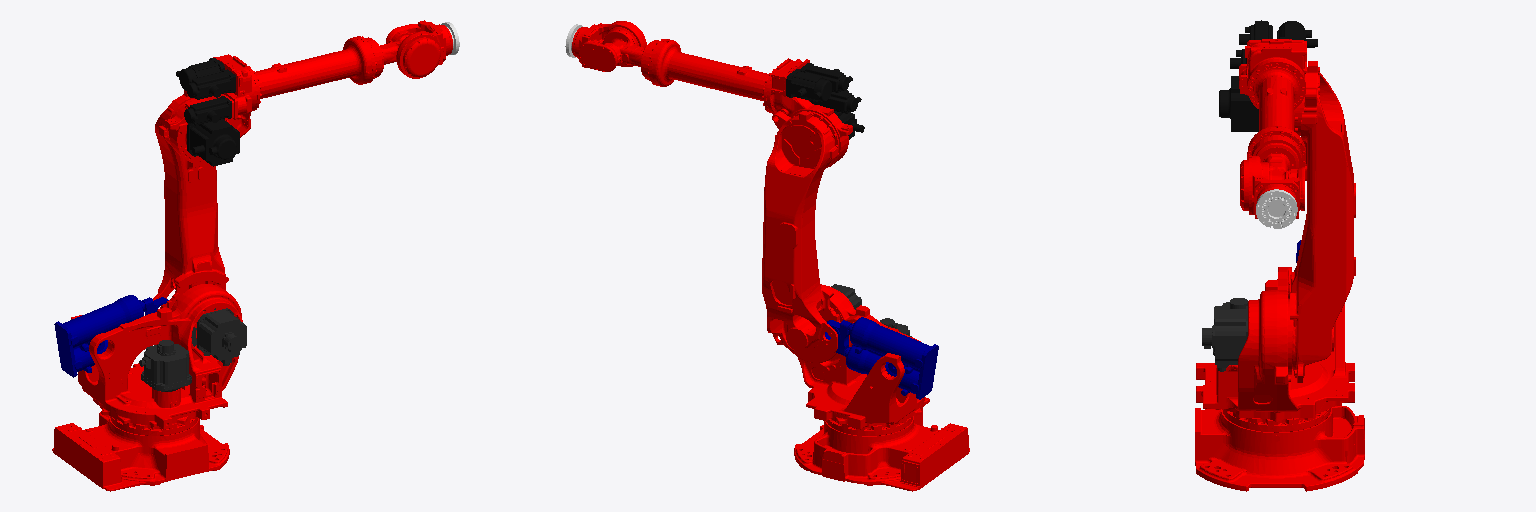
URDF robot description (ER210):
<?xml version="1.0"?>
<!-- created with Phobos 1.0.1 "Capricious Choutengan" -->
  <robot name="ER210">

    <link name="base_link">
      <inertial>
        <origin xyz="-0.056 0.01 -0.58" rpy="0 0 0"/>
        <mass value="130.0"/>
        <inertia ixx="7.69999" ixy="-0.005" ixz="0.00014" iyy="5.30001" iyz="-0.002" izz="4.3"/>
      </inertial>
      <visual name="visual_0_base_link">
        <origin xyz="0 0 0" rpy="0 0 0"/>
        <geometry>
          <mesh filename=".\stl\Base_Link.stl" scale="1.0 1.0 1.0"/>
        </geometry>
        <material name="mat_0"/>
      </visual>
      <collision name="collision_0_base_link">
        <origin xyz="0 0 0" rpy="0 0 0"/>
        <geometry>
          <mesh filename=".\stl\Base_Link.stl" scale="1.0 1.0 1.0"/>
        </geometry>
      </collision>
    </link>

    <link name="link_1">
      <inertial>
        <origin xyz="0.05 0.0045 -0.16" rpy="0 0 0"/>
        <mass value="200.0"/>
        <inertia ixx="11.85004" ixy="-2.23176" ixz="2.28166" iyy="12.60754" iyz="2.7576" izz="11.74242"/>
      </inertial>
      <visual name="visual_0_link_1">
        <origin xyz="0 0 0" rpy="0 0 0"/>
        <geometry>
          <mesh filename=".\stl\Balancer.stl" scale="1.0 1.0 1.0"/>
        </geometry>
        <material name="mat_1a"/>
      </visual>
      <visual name="visual_1_link_1">
        <origin xyz="0 0.001 0" rpy="0 0 0"/>
        <geometry>
          <mesh filename=".\stl\Motor_1.stl" scale="1.0 1.0 1.0"/>
        </geometry>
        <material name="mat_1b"/>
      </visual>
      <visual name="visual_2_link_1">
        <origin xyz="0 0 0" rpy="0 0 0"/>
        <geometry>
          <mesh filename=".\stl\Link_1.stl" scale="1.0 1.0 1.0"/>
        </geometry>
        <material name="mat_1"/>
      </visual>
      <collision name="collision_0_link_1">
        <origin xyz="0 0 0" rpy="0 0 0"/>
        <geometry>
          <mesh filename=".\stl\Link_1.stl" scale="1.0 1.0 1.0"/>
        </geometry>
      </collision>
    </link>

    <link name="link_2">
      <inertial>
        <origin xyz="0.031 0.18 0.52" rpy="0 0 0"/>
        <mass value="87.0"/>
        <inertia ixx="11.99999" ixy="0.00046" ixz="0.0109" iyy="11.98025" iyz="-0.4672" izz="0.94976"/>
      </inertial>
      <visual name="visual_0_link_2">
        <origin xyz="0 0 0" rpy="0 0 0"/>
        <geometry>
          <mesh filename=".\stl\Link_2.stl" scale="1.0 1.0 1.0"/>
        </geometry>
        <material name="mat_2"/>
      </visual>
      <collision name="collision_0_link_2">
        <origin xyz="0 0 0" rpy="0 0 0"/>
        <geometry>
          <mesh filename=".\stl\Link_2.stl" scale="1.0 1.0 1.0"/>
        </geometry>
      </collision>
    </link>

    <link name="link_3">
      <inertial>
        <origin xyz="0.3 0.0045 0.15" rpy="0 0 0"/>
        <mass value="120.0"/>
        <inertia ixx="2.26096" ixy="-0.05628" ixz="-1.75076" iyy="14.98759" iyz="0.10296" izz="13.75144"/>
      </inertial>
      <visual name="visual_0_link_3">
        <origin xyz="0 0 0" rpy="0 0 0"/>
        <geometry>
          <mesh filename=".\stl\Motor_3.stl" scale="1.0 1.0 1.0"/>
        </geometry>
        <material name="mat_3a"/>
      </visual>
      <visual name="visual_1_link_3">
        <origin xyz="0 0 0" rpy="0 0 0"/>
        <geometry>
          <mesh filename=".\stl\Link_3.stl" scale="1.0 1.0 1.0"/>
        </geometry>
        <material name="mat_3"/>
      </visual>
      <collision name="collision_0_link_3">
        <origin xyz="0 0 0" rpy="0 0 0"/>
        <geometry>
          <mesh filename=".\stl\Link_3.stl" scale="1.0 1.0 1.0"/>
        </geometry>
      </collision>
    </link>

    <link name="link_4">
      <inertial>
        <origin xyz="1.1 -0.0045 1e-05" rpy="0 0 0"/>
        <mass value="5.5"/>
        <inertia ixx="0.01423" ixy="0" ixz="0.00287" iyy="0.05099" iyz="8e-05" izz="0.04978"/>
      </inertial>
      <visual name="visual_0_link_4">
        <origin xyz="0 0 0" rpy="0 0 0"/>
        <geometry>
          <mesh filename=".\stl\Link_4.stl" scale="1.0 1.0 1.0"/>
        </geometry>
        <material name="mat_4"/>
      </visual>
      <collision name="collision_0_link_4">
        <origin xyz="0 0 0" rpy="0 0 0"/>
        <geometry>
          <mesh filename=".\stl\Link_4.stl" scale="1.0 1.0 1.0"/>
        </geometry>
      </collision>
    </link>

    <link name="link_5">
      <inertial>
        <origin xyz="0.057 -0.033 8e-05" rpy="0 0 0"/>
        <mass value="13.0"/>
        <inertia ixx="0.12696" ixy="-0.00217" ixz="0.0168" iyy="0.14384" iyz="-0.01577" izz="0.0872"/>
      </inertial>
      <visual name="visual_0_link_5">
        <origin xyz="0 0 0" rpy="0 0 0"/>
        <geometry>
          <mesh filename=".\stl\Link_5.stl" scale="1.0 1.0 1.0"/>
        </geometry>
        <material name="mat_5"/>
      </visual>
      <collision name="collision_0_link_5">
        <origin xyz="0 0 0" rpy="0 0 0"/>
        <geometry>
          <mesh filename=".\stl\Link_5.stl" scale="1.0 1.0 1.0"/>
        </geometry>
      </collision>
    </link>

    <link name="link_6">
      <inertial>
        <origin xyz="-0.015 0.00035 -7e-05" rpy="0 0 0"/>
        <mass value="0.58"/>
        <inertia ixx="0.0018" ixy="0" ixz="0" iyy="0.0009" iyz="0" izz="0.00093"/>
      </inertial>
      <visual name="visual_0_link_6">
        <origin xyz="0 0 0" rpy="0 0 0"/>
        <geometry>
          <mesh filename=".\stl\Link_6.stl" scale="1.0 1.0 1.0"/>
        </geometry>
        <material name="mat_6"/>
      </visual>
      <collision name="collision_0_link_6">
        <origin xyz="0 0 0" rpy="0 0 0"/>
        <geometry>
          <mesh filename=".\stl\Link_6.stl" scale="1.0 1.0 1.0"/>
        </geometry>
      </collision>
    </link>

    <joint name="joint_1" type="revolute">
      <origin xyz="0 0 0" rpy="0 0 0"/>
      <parent link="base_link"/>
      <child link="link_1"/>
      <axis xyz="0 0 1.0"/>
      <limit lower="-3.14" upper="3.14" effort="0" velocity="0"/>
    </joint>

    <joint name="joint_2" type="revolute">
      <origin xyz="0.305 0 0" rpy="0 0 0"/>
      <parent link="link_1"/>
      <child link="link_2"/>
      <axis xyz="0 1.0 0"/>
      <limit lower="-3.14" upper="3.14" effort="0" velocity="0"/>
    </joint>

    <joint name="joint_3" type="revolute">
      <origin xyz="0 0 1.11" rpy="0 0 0"/>
      <parent link="link_2"/>
      <child link="link_3"/>
      <axis xyz="0 1.0 0"/>
      <limit lower="-3.14" upper="3.14" effort="0" velocity="0"/>
    </joint>

    <joint name="joint_4" type="revolute">
      <origin xyz="0 0 0.2" rpy="0 0 0"/>
      <parent link="link_3"/>
      <child link="link_4"/>
      <axis xyz="1.0 0 0"/>
      <limit lower="-3.14" upper="3.14" effort="0" velocity="0"/>
    </joint>

    <joint name="joint_5" type="revolute">
      <origin xyz="1.26 0 0" rpy="0 0 0"/>
      <parent link="link_4"/>
      <child link="link_5"/>
      <axis xyz="0 1.0 0"/>
      <limit lower="-3.14" upper="3.14" effort="0" velocity="0"/>
    </joint>

    <joint name="joint_6" type="revolute">
      <origin xyz="0.2565 0 0" rpy="0 0 0"/>
      <parent link="link_5"/>
      <child link="link_6"/>
      <axis xyz="1.0 0 0"/>
      <limit lower="-3.14" upper="3.14" effort="0" velocity="0"/>
    </joint>

    <material name="mat_0">
      <color rgba="1.0 0 0 1.0"/>
    </material>

    <material name="mat_1">
      <color rgba="1.0 0 0 1.0"/>
    </material>

    <material name="mat_1a">
      <color rgba="0 0 0.6 1.0"/>
    </material>

    <material name="mat_1b">
      <color rgba="0.2 0.2 0.2 1.0"/>
    </material>

    <material name="mat_2">
      <color rgba="1.0 0 0 1.0"/>
    </material>

    <material name="mat_3">
      <color rgba="1.0 0 0 1.0"/>
    </material>

    <material name="mat_3a">
      <color rgba="0.1 0.1 0.1 1.0"/>
    </material>

    <material name="mat_4">
      <color rgba="1.0 0 0 1.0"/>
    </material>

    <material name="mat_5">
      <color rgba="1.0 0 0 1.0"/>
    </material>

    <material name="mat_6">
      <color rgba="0.9 0.9 0.9 1.0"/>
    </material>

  </robot>

--- What the picture shows (computed from the rendered views, not written in the file) ---
3 views of the same robot in one strip: view 1: azimuth 30°, elevation 25°; view 2: azimuth 150°, elevation 25°; view 3: azimuth 270°, elevation 25° (orthographic).
Robot: ER210 — 7 links, 6 joints (6 revolute); root link base_link; default pose: every joint at zero.
Visible links, largest first — view 1: link_1, link_3, base_link, link_2, link_5; view 2: link_2, link_1, link_3, base_link, link_5, link_4; view 3: link_1, link_2, base_link, link_3, link_5, link_6, link_4.
Link boxes in pixels (<box>): link_1: <box>54,284,246,429</box>; link_3: <box>164,36,382,166</box>; base_link: <box>52,412,229,491</box>; link_2: <box>153,90,228,309</box>; link_5: <box>386,20,452,78</box>; link_2: <box>762,111,840,362</box>; link_1: <box>798,284,938,429</box>; link_3: <box>642,39,864,168</box>; base_link: <box>794,409,969,491</box>; link_5: <box>572,21,646,71</box>; link_4: <box>603,30,650,74</box>; link_1: <box>1196,240,1354,421</box>; link_2: <box>1290,61,1355,382</box>; base_link: <box>1195,406,1364,491</box>; link_3: <box>1219,20,1317,167</box>; link_5: <box>1240,155,1304,218</box>; link_6: <box>1256,189,1297,228</box>; link_4: <box>1256,143,1298,179</box>.
Bounding box of the posed robot: 2.31 × 0.734 × 2.18 m (x, y, z).
Meshes: 10 distinct files referenced, 10 mesh visuals loaded (10 binary STL).